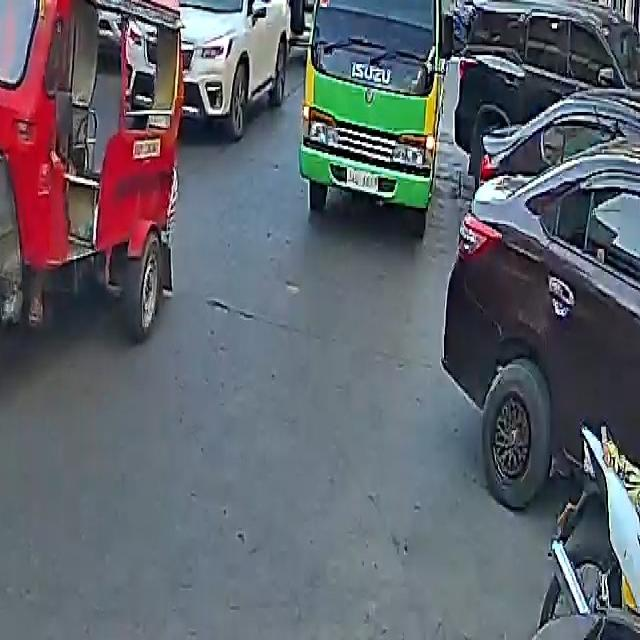car: (441, 64, 640, 528), (452, 0, 639, 192), (167, 0, 297, 139)
